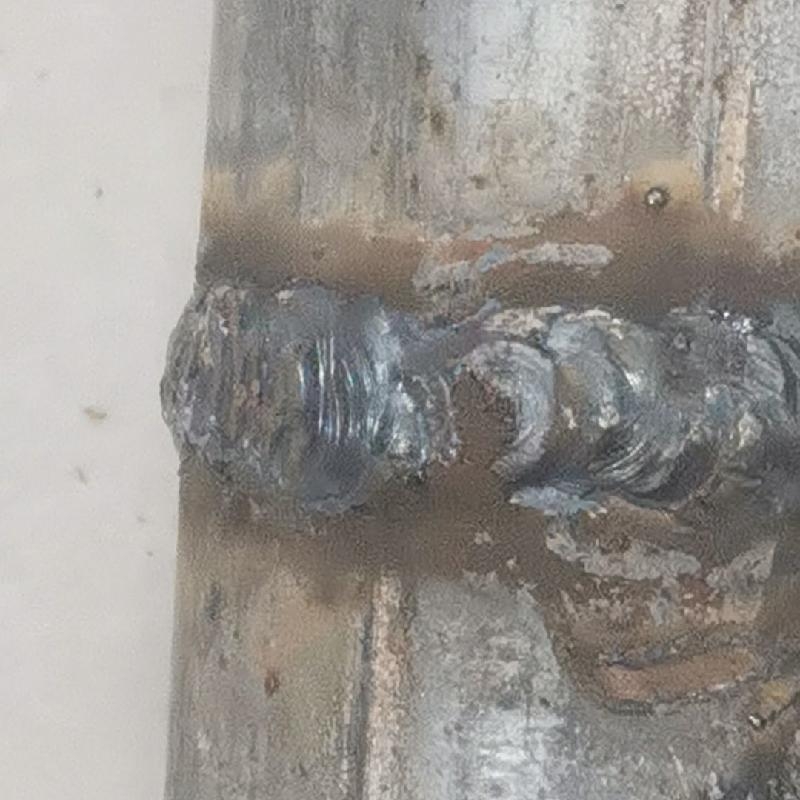good: (156, 265, 799, 516)
